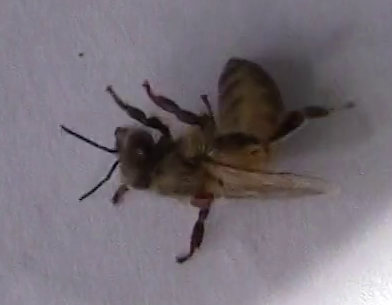Varroa destructor: (186, 189, 216, 209)
